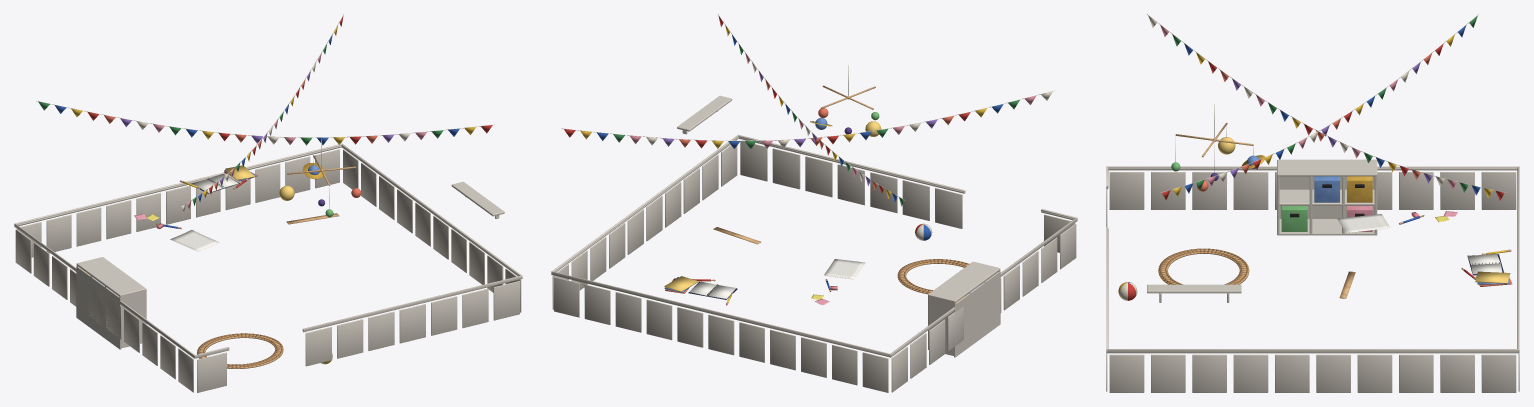
Rendered from LobbyKit4.fbx.
The picture shows the model from 3 angles, left to right: view 1: azimuth 30°, elevation 25°; view 2: azimuth 150°, elevation 25°; view 3: azimuth 270°, elevation 25°; orthographic projection. The views are drawn at different scales.
Visible parts, largest first — view 1: LK_Wainscot_Paint, LK_Shelves_Paint, LK_Bunting_Pal, LK_DeskClutter_Pal, LK_FloorToys_Pal, LK_Mobile_Pal; view 2: LK_Wainscot_Paint, LK_Shelves_Paint, LK_Bunting_Pal, LK_DeskClutter_Pal, LK_FloorToys_Pal, LK_Mobile_Pal; view 3: LK_Wainscot_Paint, LK_Shelves_Paint, LK_Bunting_Pal, LK_Bins_Pal, LK_DeskClutter_Pal, LK_FloorToys_Pal, LK_Mobile_Pal.
Boxes of the visible parts, x1=… form: LK_Wainscot_Paint: x1=14, y1=143, x2=522, y2=392; LK_Shelves_Paint: x1=76, y1=181, x2=504, y2=349; LK_Bunting_Pal: x1=36, y1=14, x2=494, y2=212; LK_DeskClutter_Pal: x1=134, y1=165, x2=339, y2=251; LK_FloorToys_Pal: x1=197, y1=333, x2=332, y2=368; LK_Mobile_Pal: x1=279, y1=139, x2=361, y2=217; LK_Wainscot_Paint: x1=551, y1=134, x2=1077, y2=392; LK_Shelves_Paint: x1=677, y1=95, x2=1000, y2=357; LK_Bunting_Pal: x1=561, y1=14, x2=1054, y2=206; LK_DeskClutter_Pal: x1=664, y1=227, x2=865, y2=305; LK_FloorToys_Pal: x1=897, y1=223, x2=968, y2=294; LK_Mobile_Pal: x1=810, y1=65, x2=881, y2=136; LK_Wainscot_Paint: x1=1106, y1=166, x2=1519, y2=392; LK_Shelves_Paint: x1=1147, y1=159, x2=1377, y2=302; LK_Bunting_Pal: x1=1147, y1=14, x2=1505, y2=200; LK_Bins_Pal: x1=1281, y1=176, x2=1372, y2=231; LK_DeskClutter_Pal: x1=1337, y1=211, x2=1512, y2=298; LK_FloorToys_Pal: x1=1118, y1=248, x2=1249, y2=300; LK_Mobile_Pal: x1=1171, y1=104, x2=1264, y2=191.
Size of the model in its own units: 32000 by 17500 by 30500.
